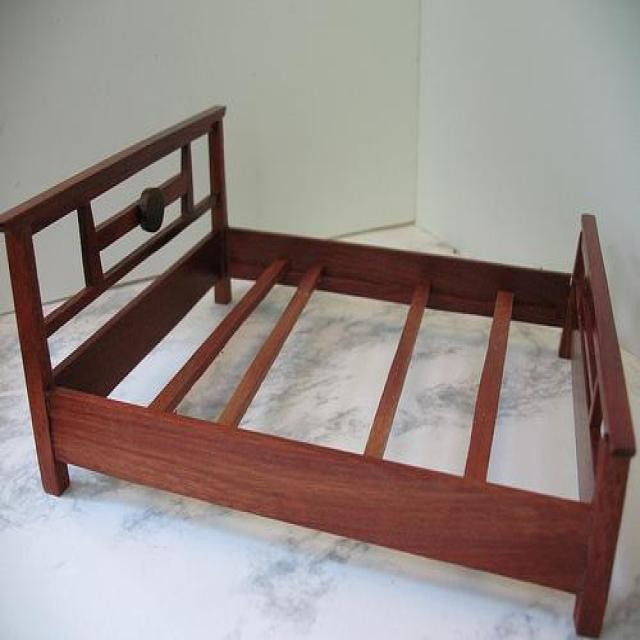bed: (0, 102, 636, 640)
